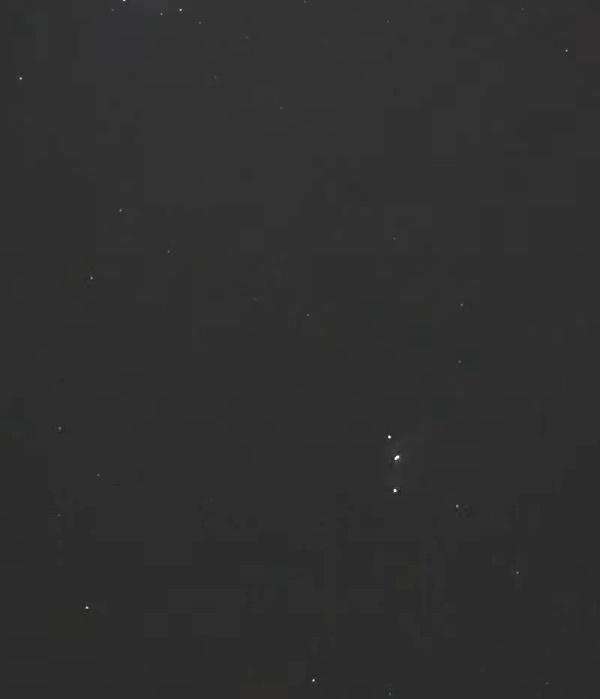Plane: (374, 412, 408, 507)
